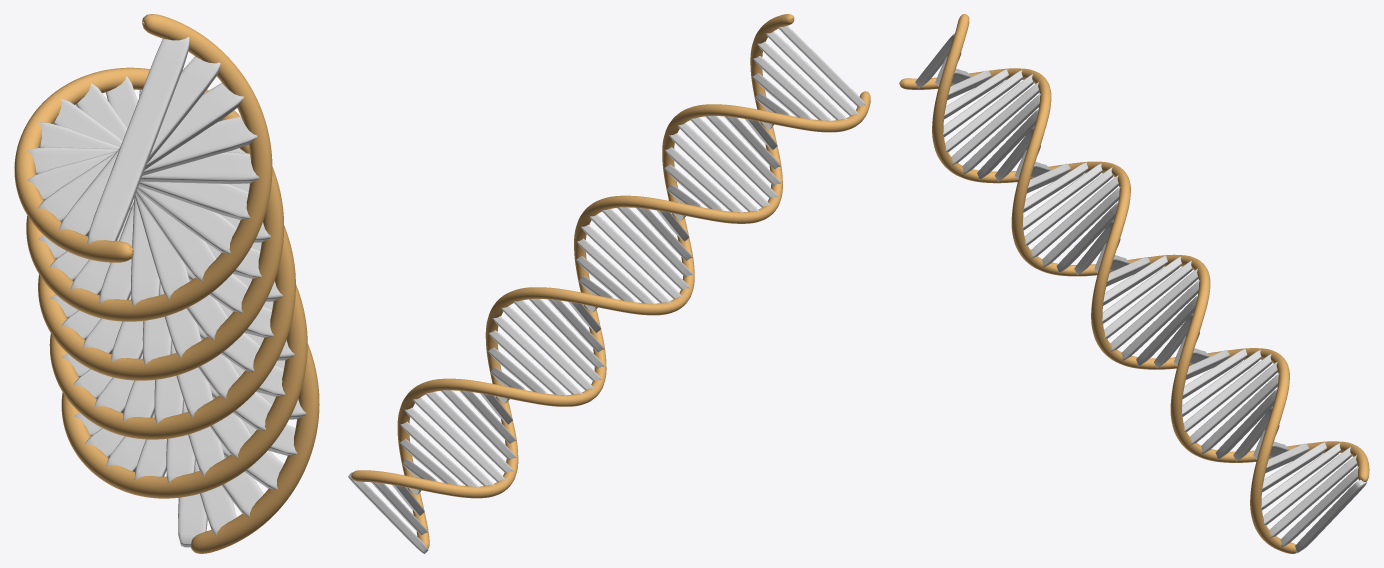
The model's file is scene-transformed-dna2.glb.
3 views of the same model, side by side, from view 1: azimuth 30°, elevation 25°; view 2: azimuth 150°, elevation 25°; view 3: azimuth 270°, elevation 25° (orthographic). The views are drawn at different scales.
Visible parts, largest first — view 1: Object_6, Object_4; view 2: Object_6, Object_4; view 3: Object_6, Object_4.
Part boxes in pixels (x1,y1,x2,y2): Object_6: (26, 37, 306, 547); Object_4: (14, 14, 319, 553); Object_6: (348, 26, 866, 553); Object_4: (351, 14, 870, 548); Object_6: (915, 33, 1367, 553); Object_4: (899, 14, 1369, 553).
Bounding box in the file's own units: 2.75 × 3.99 × 3.81.
